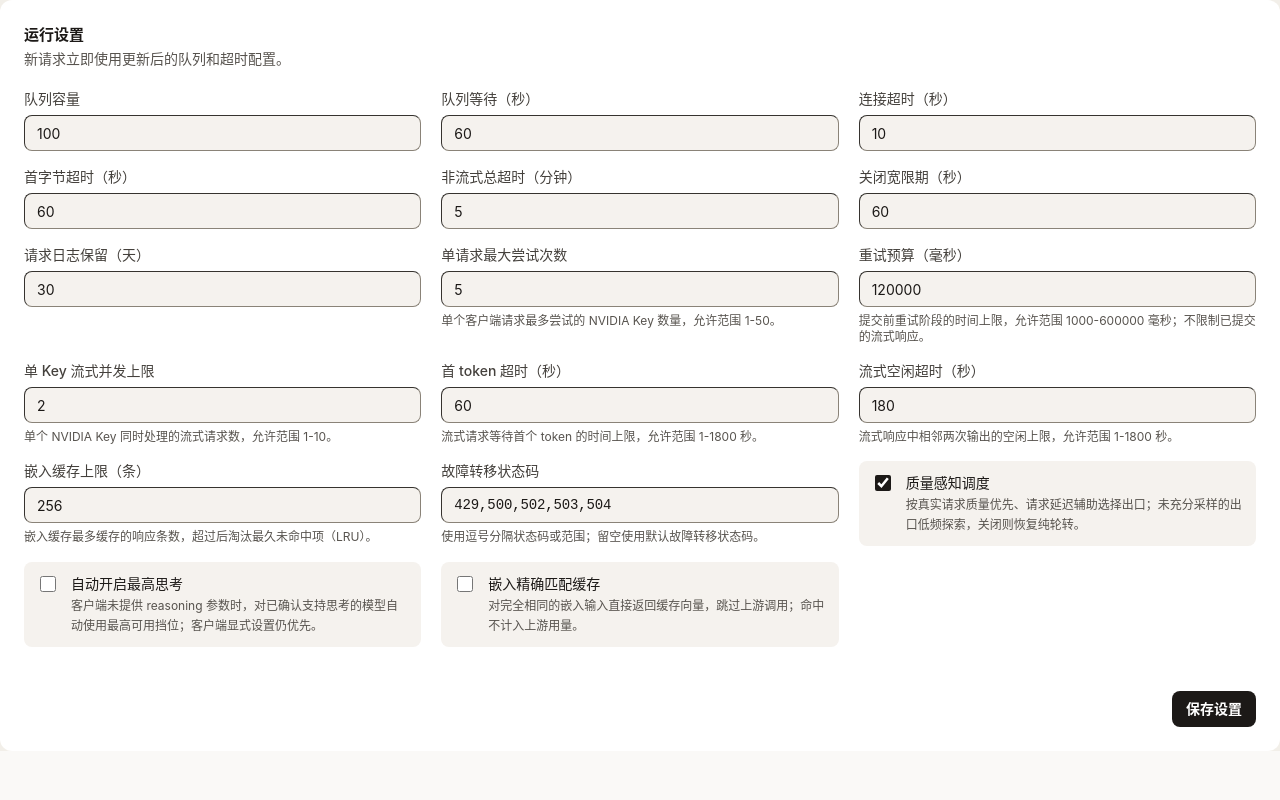
Test: SettingsForm › rejects a fractional value for integer input queue-capacity
Replace the text in the number field with test id "queue-capacity" with "1.5". click: {"x": 223, "y": 133}
box: [24,115,421,151]
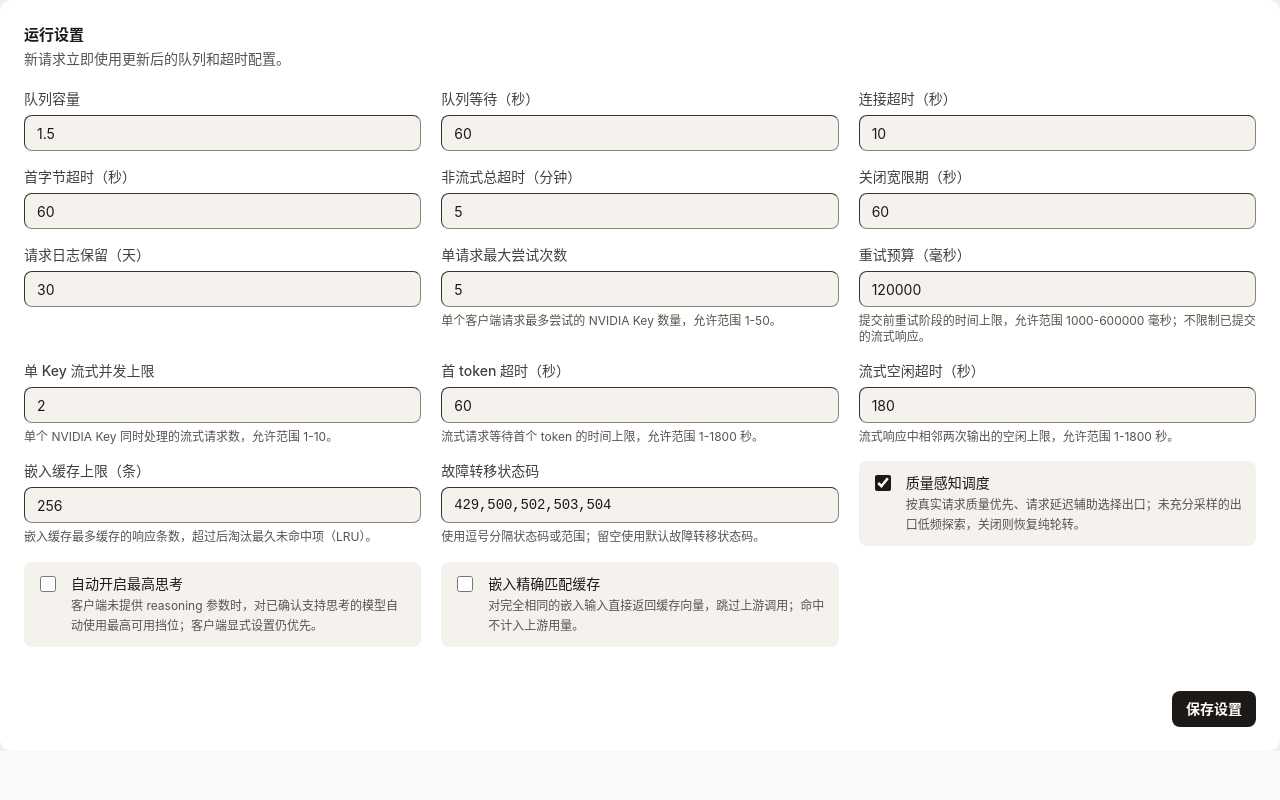
Submit the form with test id "runtime-settings-form"
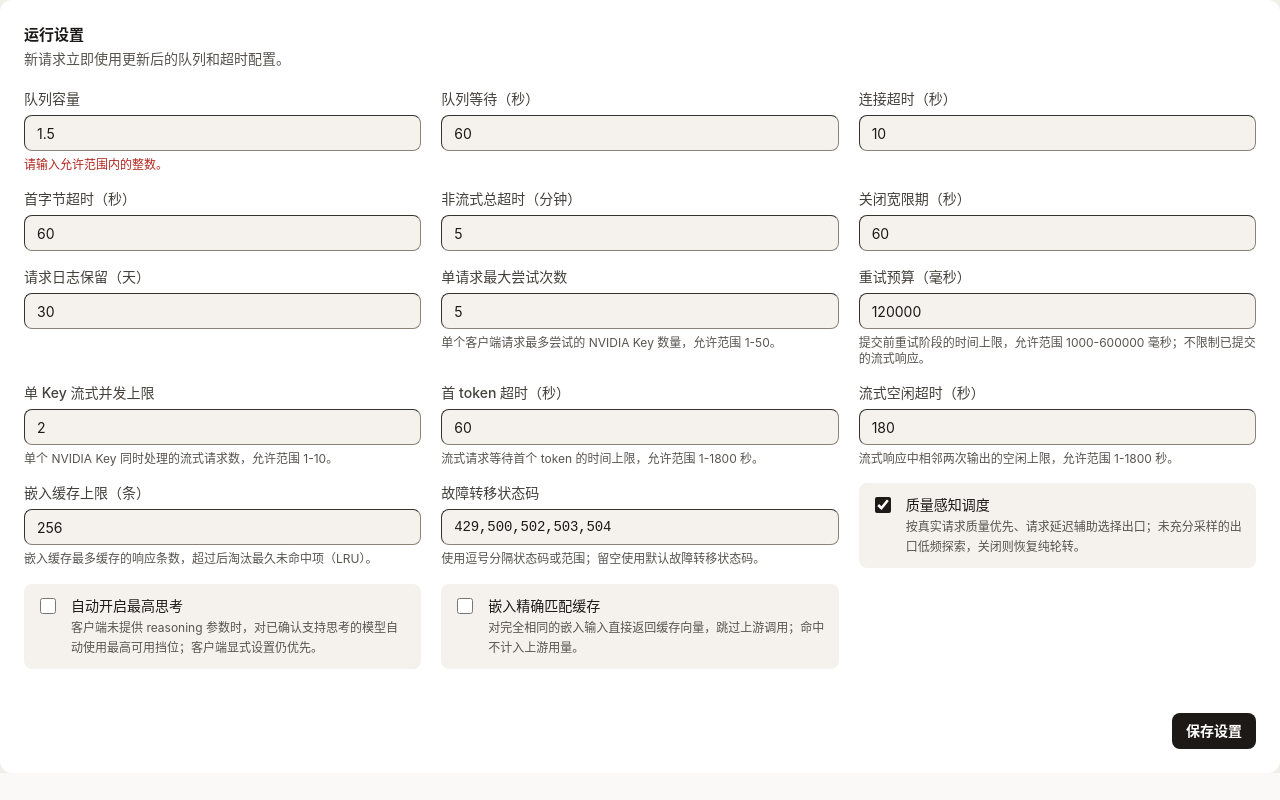
Result: the message with test id "error-queue_capacity" shows "整数" at [24,157,168,172]
